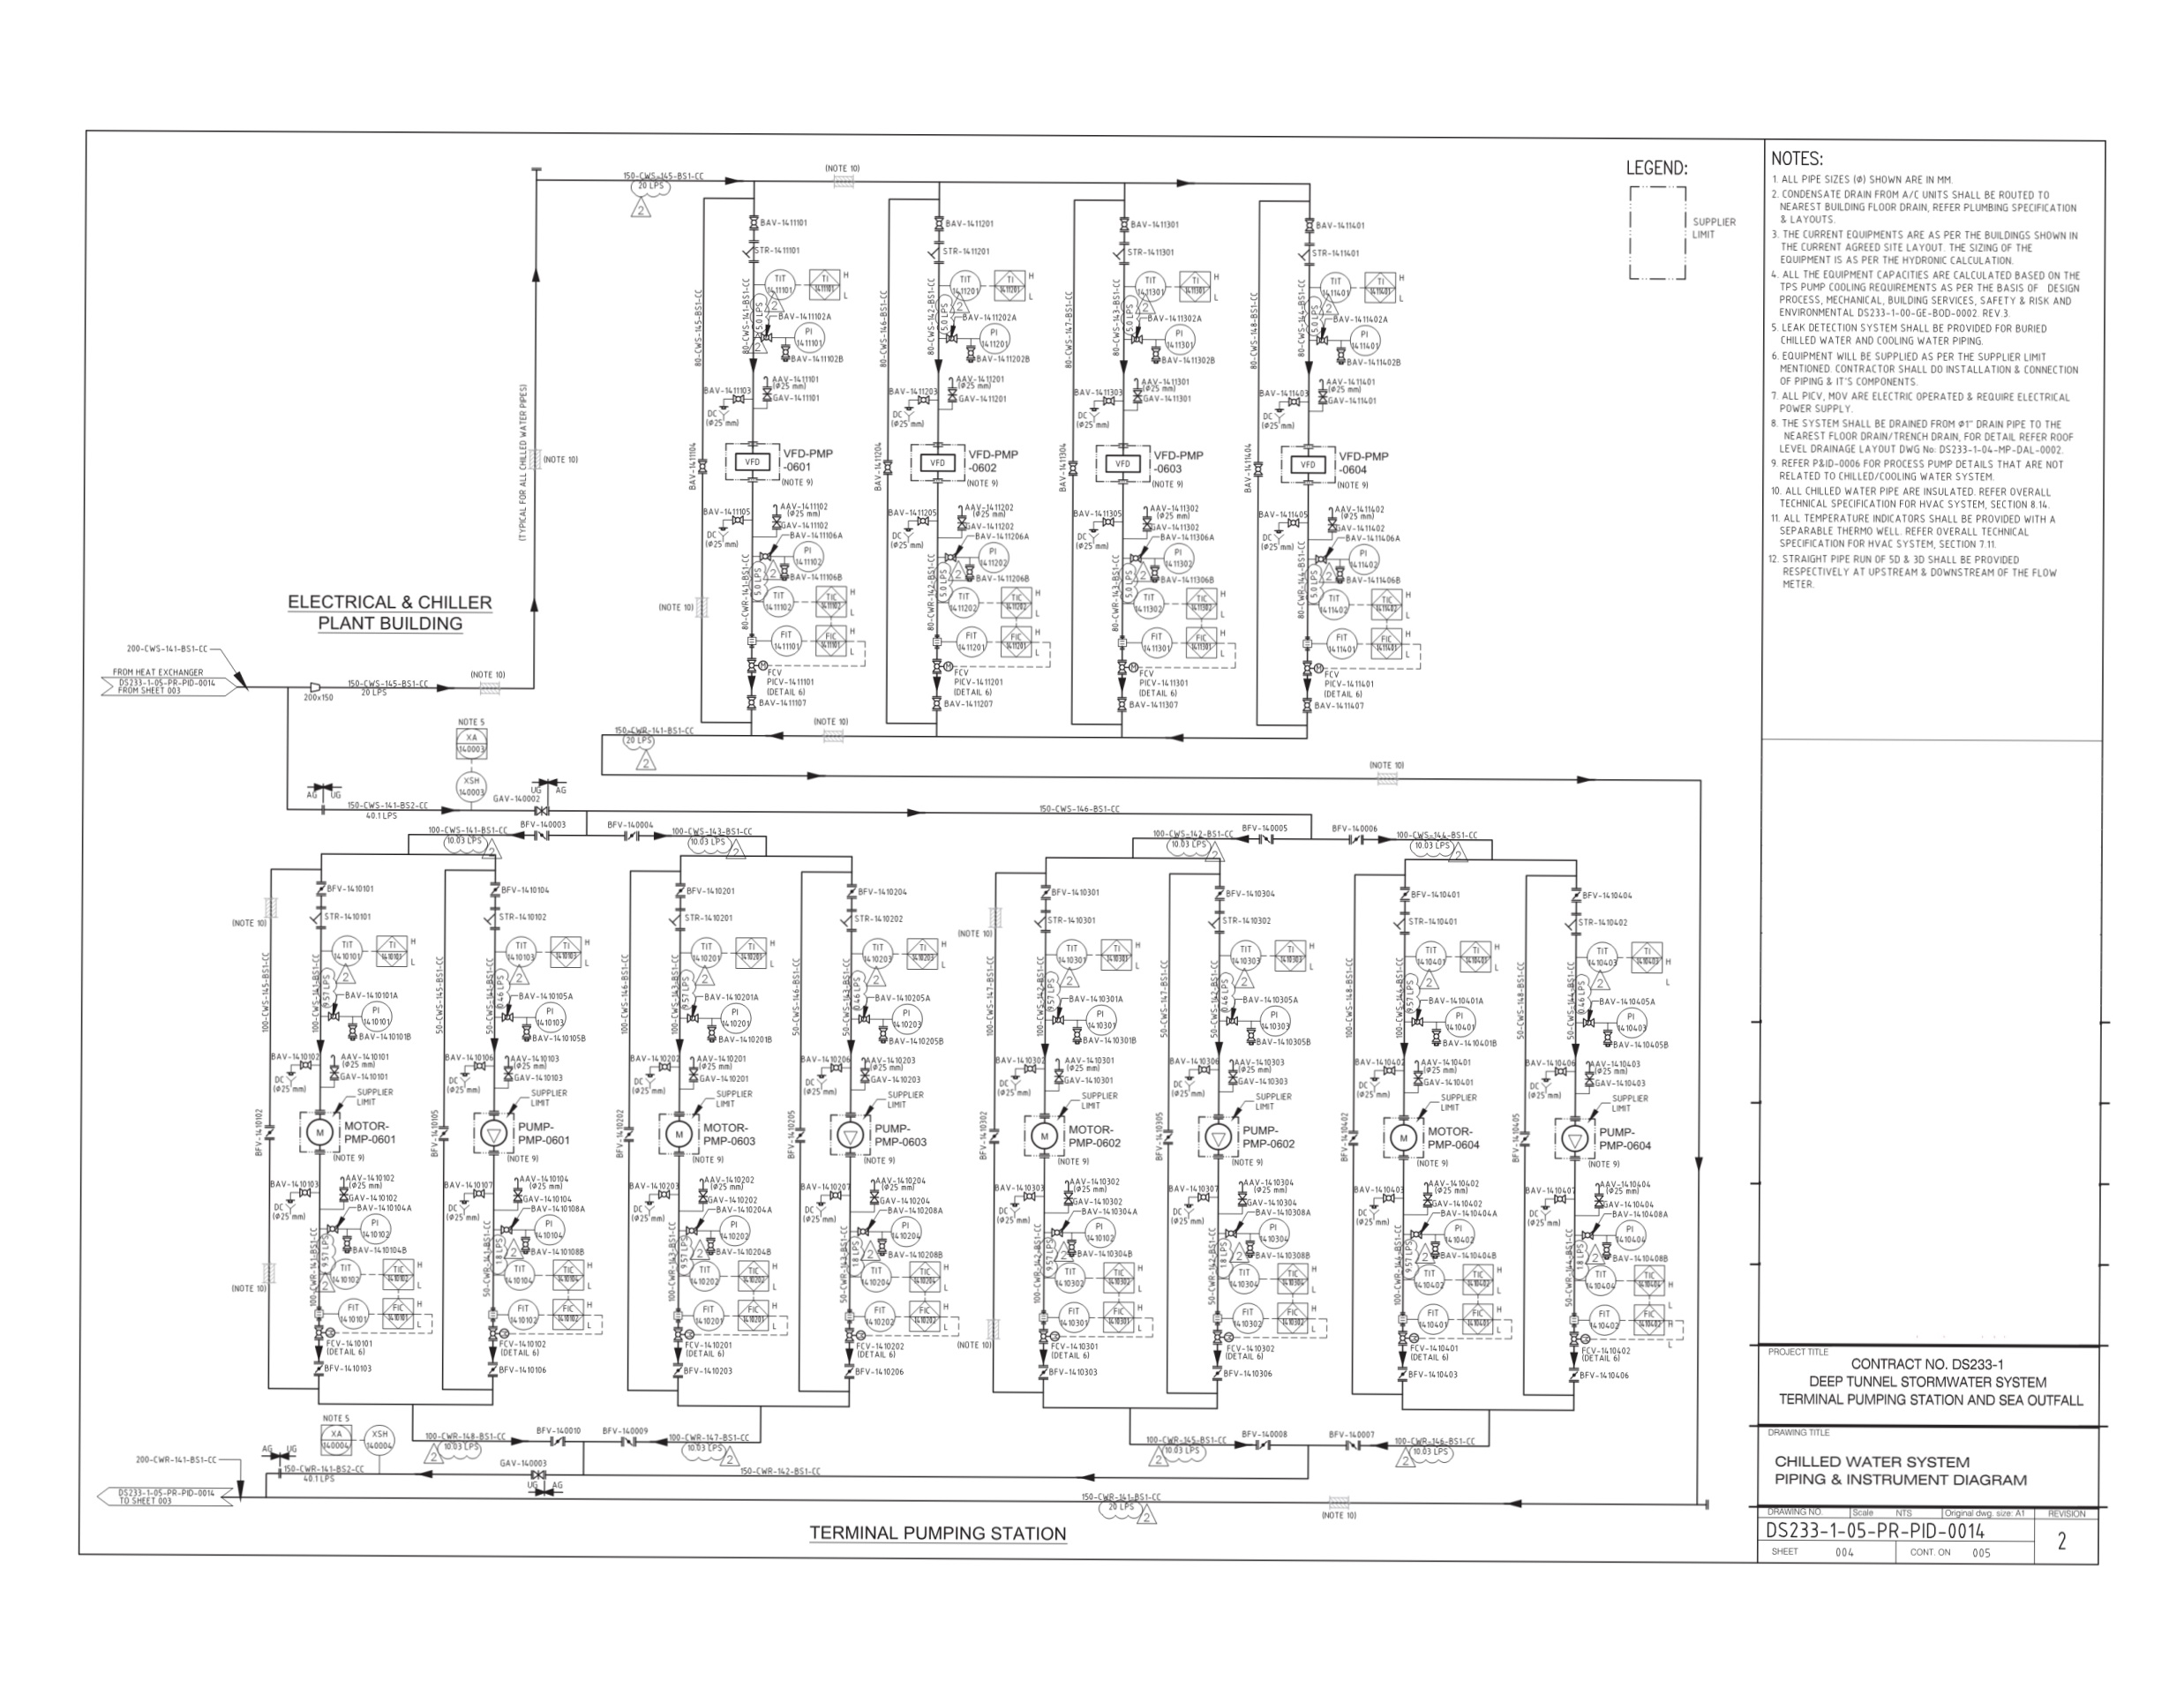Inlinel Instrument: (534, 1213, 569, 1248), (718, 1213, 753, 1248), (720, 1000, 755, 1035), (1083, 1215, 1119, 1250), (1259, 1215, 1294, 1250), (1259, 1002, 1294, 1037), (1615, 1004, 1650, 1039), (454, 770, 489, 803), (535, 1000, 571, 1034), (360, 1000, 395, 1034), (358, 1211, 394, 1245), (337, 1298, 372, 1332), (691, 1298, 727, 1332), (363, 1422, 397, 1457), (507, 1298, 542, 1332), (890, 1004, 925, 1037), (862, 936, 897, 970), (505, 934, 541, 968), (1085, 1002, 1120, 1035), (1229, 938, 1264, 972), (1230, 1300, 1266, 1333), (1057, 1300, 1092, 1333), (863, 1300, 899, 1333), (1416, 1301, 1452, 1335), (1588, 1303, 1624, 1337), (1617, 1218, 1652, 1252), (1443, 1005, 1478, 1039)
Panel Instrument: (319, 1422, 356, 1457), (454, 727, 491, 761)
